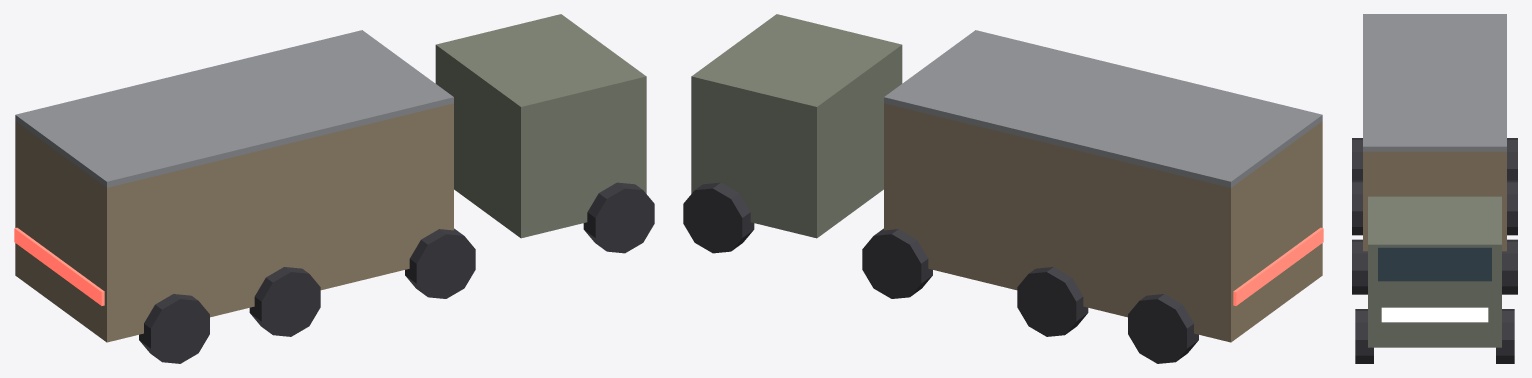
The model's file is vehicle_truck.glb.
3 views of the same model, side by side, from view 1: azimuth 30°, elevation 25°; view 2: azimuth 150°, elevation 25°; view 3: azimuth 270°, elevation 25° (orthographic). The views are drawn at different scales.
Visible parts, largest first — view 1: Cube.002, Cube, Cube.003, Cylinder, Cylinder.002, Cylinder.001, Cylinder.003, Cube.005; view 2: Cube.002, Cube, Cube.003, Cylinder.004, Cylinder.006, Cylinder.005, Cylinder.007, Cube.005; view 3: Cube.003, Cube, Cube.002, Cube.001, Cube.004, Cylinder.001, Cylinder.005, Cylinder, Cylinder.004, Cylinder.002, Cylinder.006, Cylinder.003 (+1 smaller).
Boxes of the visible parts, x1=… form: Cube.002: x1=15, y1=103, x2=453, y2=342; Cube: x1=435, y1=14, x2=646, y2=238; Cube.003: x1=15, y1=30, x2=453, y2=187; Cylinder: x1=583, y1=182, x2=654, y2=253; Cylinder.002: x1=249, y1=267, x2=320, y2=336; Cylinder.001: x1=405, y1=228, x2=475, y2=298; Cylinder.003: x1=139, y1=294, x2=209, y2=363; Cube.005: x1=14, y1=227, x2=104, y2=305; Cube.002: x1=884, y1=103, x2=1322, y2=342; Cube: x1=691, y1=14, x2=902, y2=238; Cube.003: x1=884, y1=30, x2=1322, y2=187; Cylinder.004: x1=683, y1=182, x2=754, y2=253; Cylinder.006: x1=1017, y1=267, x2=1088, y2=336; Cylinder.005: x1=862, y1=228, x2=932, y2=298; Cylinder.007: x1=1128, y1=294, x2=1198, y2=363; Cube.005: x1=1233, y1=227, x2=1323, y2=305; Cube.003: x1=1363, y1=14, x2=1506, y2=151; Cube: x1=1368, y1=196, x2=1501, y2=347; Cube.002: x1=1363, y1=151, x2=1506, y2=251; Cube.001: x1=1378, y1=247, x2=1491, y2=281; Cube.004: x1=1381, y1=307, x2=1488, y2=322; Cylinder.001: x1=1352, y1=239, x2=1367, y2=294; Cylinder.005: x1=1502, y1=239, x2=1517, y2=294; Cylinder: x1=1355, y1=309, x2=1373, y2=363; Cylinder.004: x1=1496, y1=309, x2=1514, y2=363; Cylinder.002: x1=1352, y1=180, x2=1362, y2=235; Cylinder.006: x1=1507, y1=180, x2=1517, y2=235; Cylinder.003: x1=1352, y1=138, x2=1362, y2=180.
Size of the model in its own units: 7.43 by 2.5 by 2.48.
